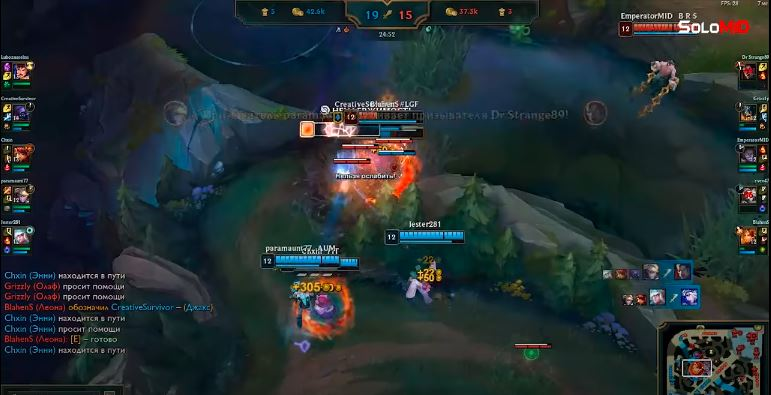bar: (615, 18, 709, 37), (381, 227, 470, 247), (298, 118, 383, 138), (258, 250, 345, 267), (276, 258, 364, 274), (342, 108, 426, 122), (350, 125, 426, 140)
